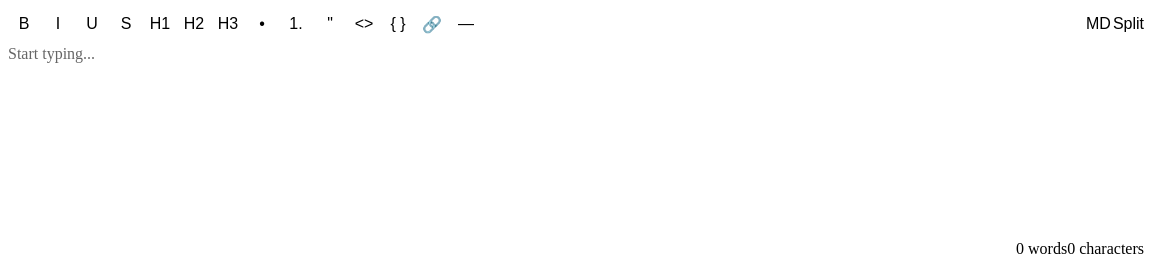
Scenario: RichTextEditorComponent › Modes › should switch to markdown mode
Click the button with class "lc-rich-text-editor__mode-btn" showing "MD": coordinates (1098, 24) [1086,15,1111,33]
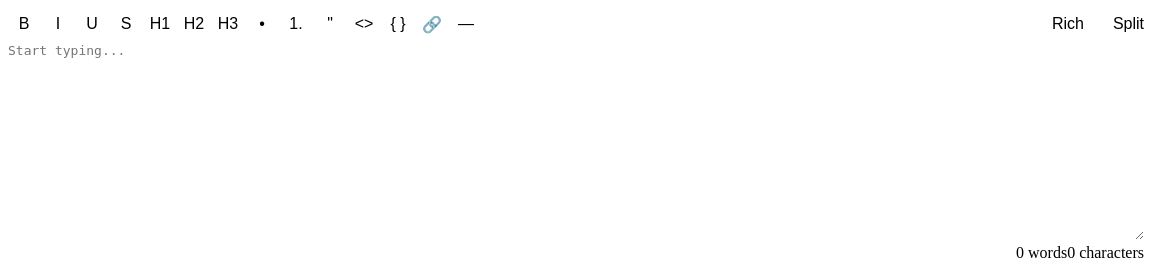
Expected: the text box with class "lc-rich-text-editor__textarea" is shown
